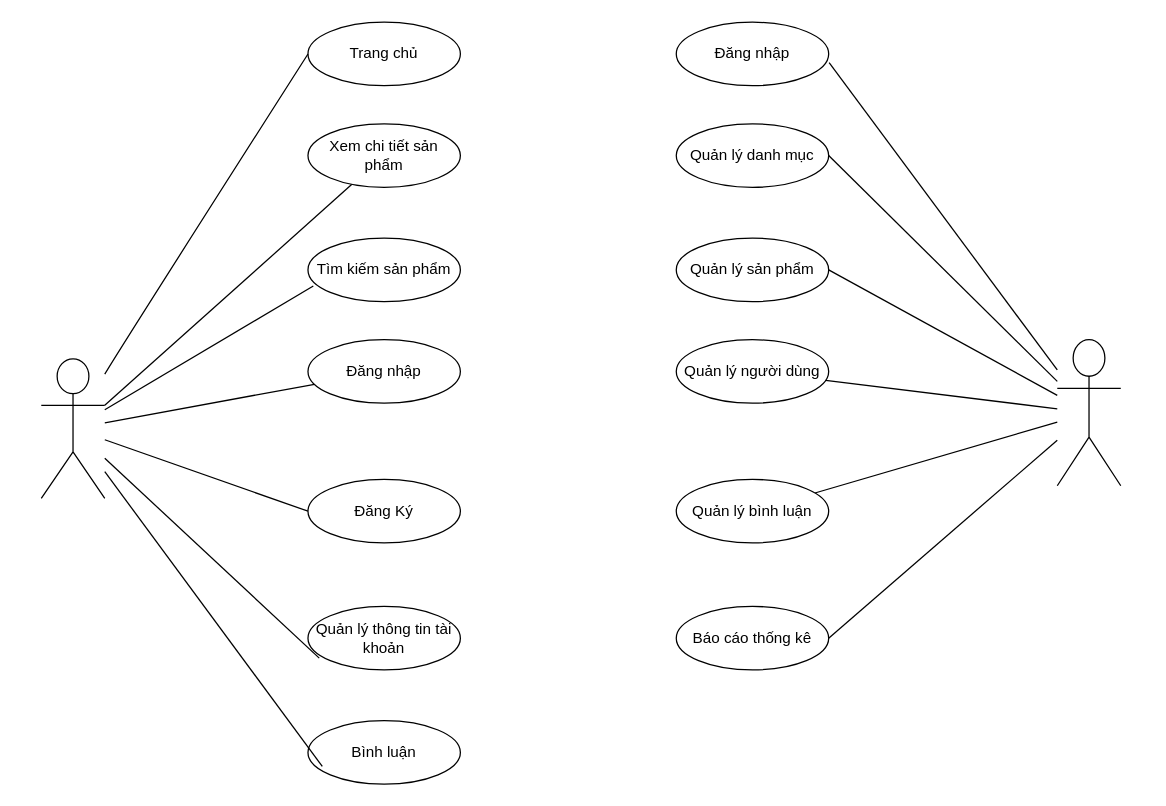
This 1166x806 diagram has some shape labels left out. The shapes that lost their labels are listed below. From the top down, each one's centre as x and y in pixels, then its label:
(72,428): KHÁCH HÀNG
(1088,412): QUẢN TRỊ VIÊN
